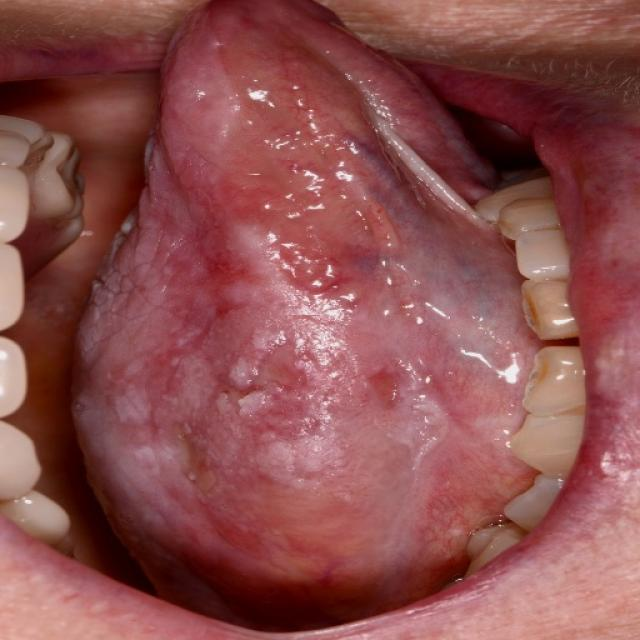cancer-detection: (68, 0, 533, 552)
processing_area: (20, 0, 537, 629)
